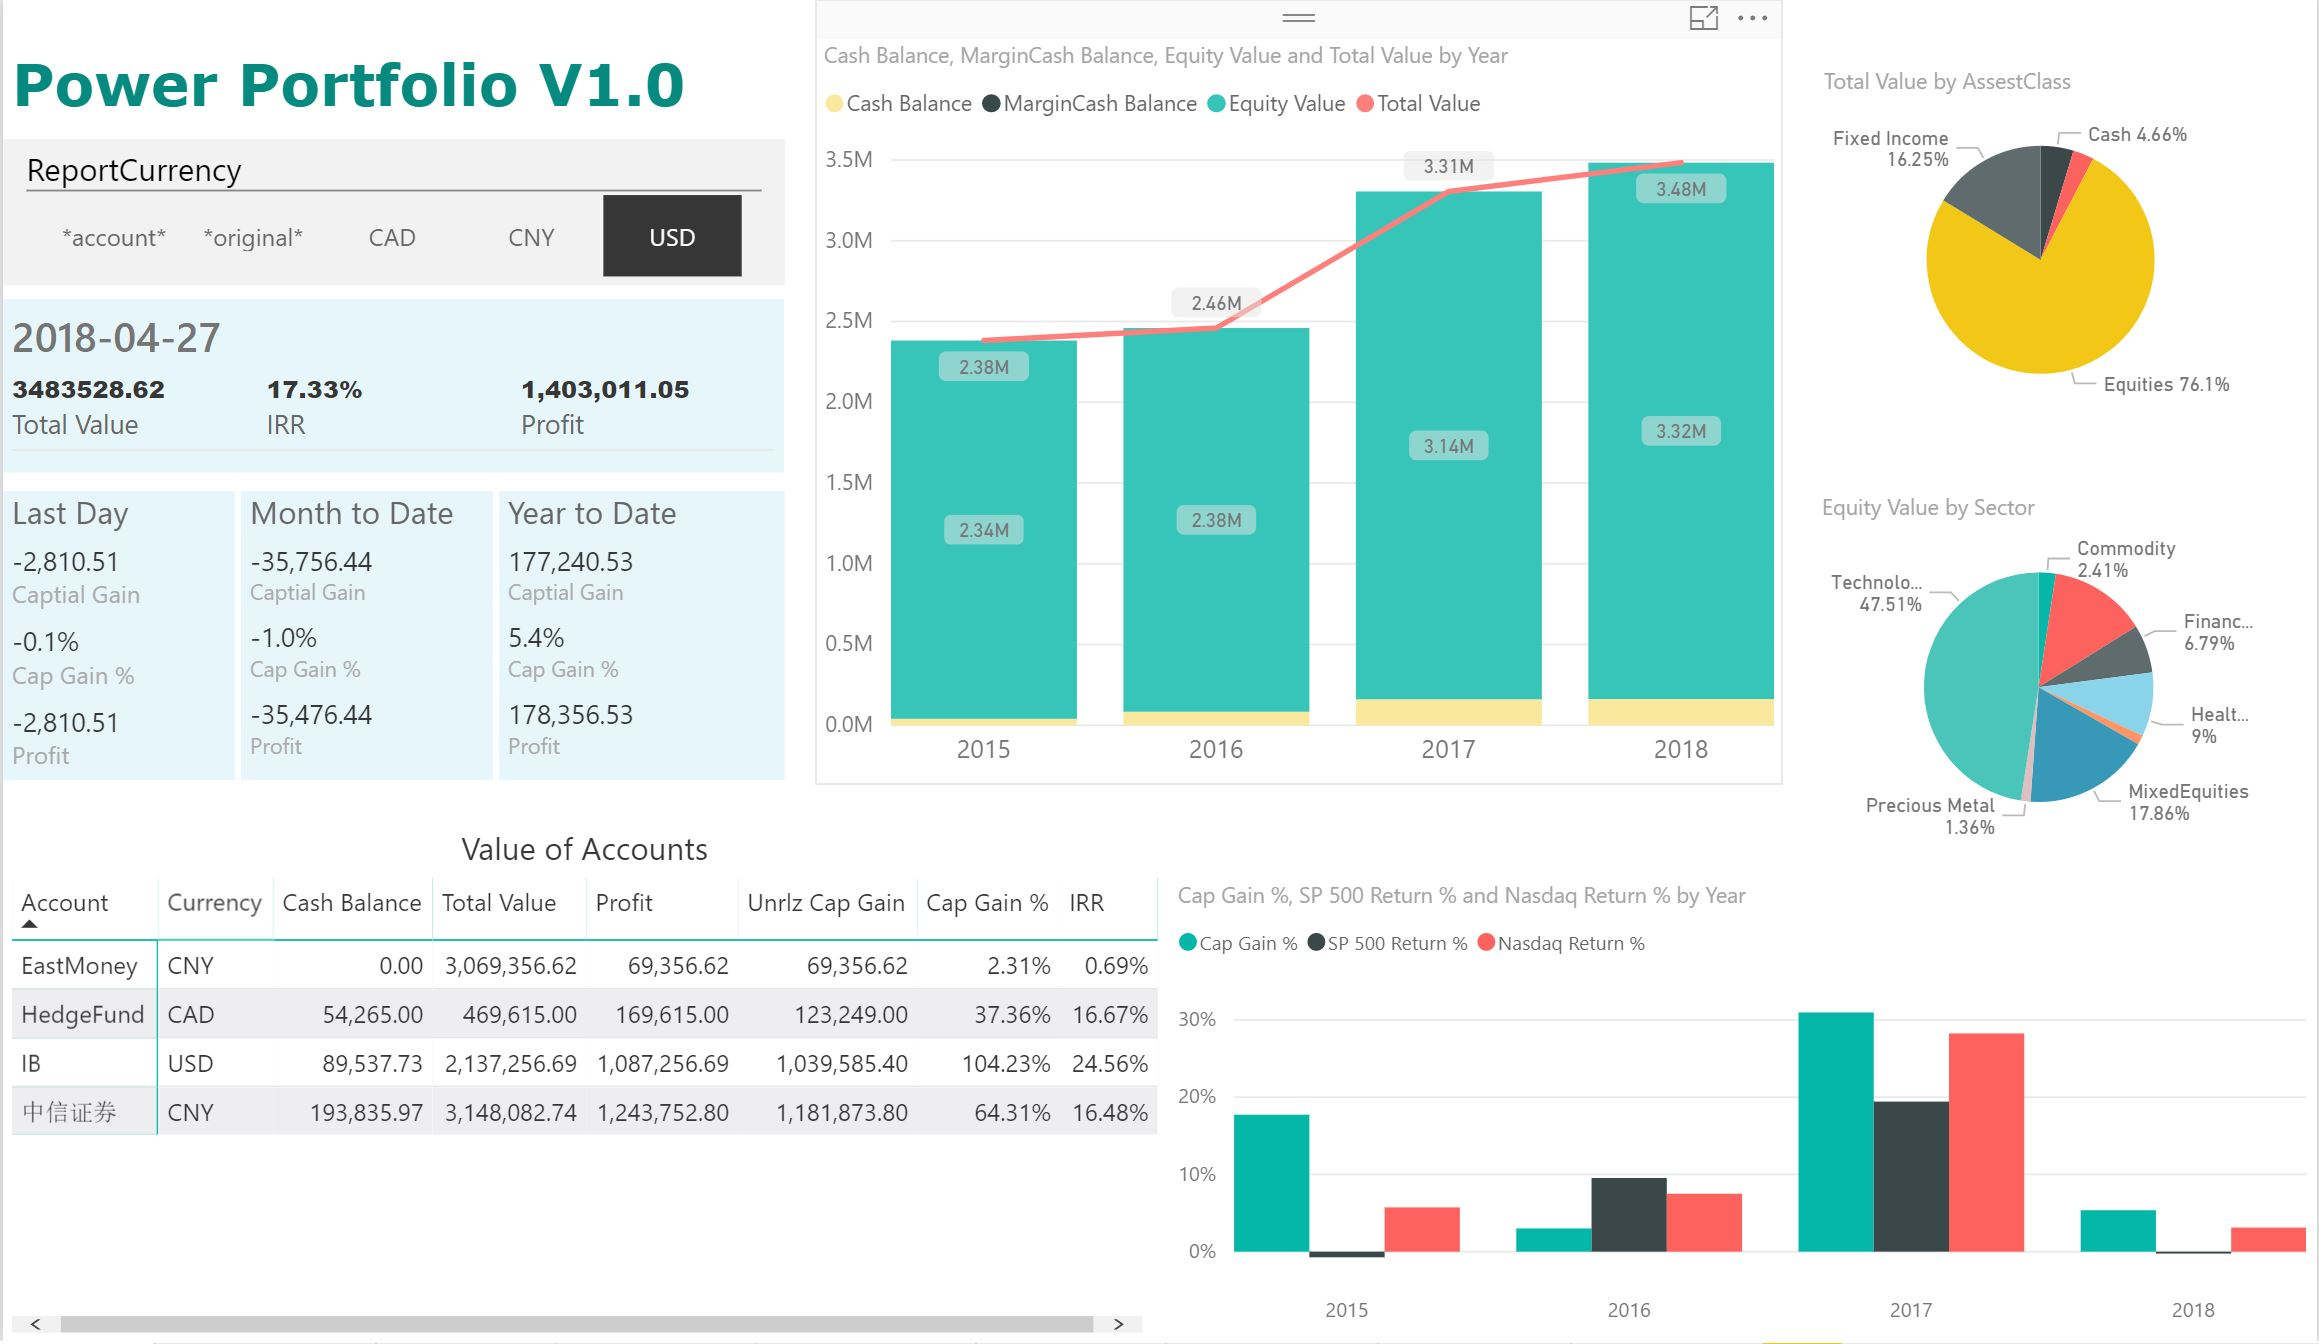

What the dashboard file says about the page in this screenshot:
{"tool":"powerbi","page":{"name":"Overview","canvas":[1280,720],"ordinal":0},"visuals":[{"type":"textbox","box":[0,0,434,48.7],"z":1},{"type":"multiRowCard","fields":{"Values":["Dates.Current Date","Report.Total Value","Report.IRR","Report.Profit"]},"box":[0,144,432,96],"z":2},{"type":"pivotTable","fields":{"Rows":["Accounts.AccountName"],"Values":["Min(Accounts.Currency)","Report.Cash Balance on BaseCurrency","Report.Total Value on BaseCurrency","Report.Profit on BaseCurrency","Report.Unrlz Cap Gain on BaseCurrency","Report.Cap Gain % on BaseCurrency","Report.IRR on BaseCurrency"]},"box":[0,435.7,643.4,284.6],"z":4},{"type":"slicer","fields":{"Values":["ReportCurrency.ReportCurrency"]},"box":[0,55.4,432.7,81.1],"z":6},{"type":"multiRowCard","fields":{"Values":["Report.Captial Gain","Report.Cap Gain %","Report.Profit"]},"box":[0,250,128.5,160],"z":6},{"type":"lineStackedColumnComboChart","fields":{"Category":["Dates.Year"],"Y":["Report.Cash Balance","Report.MarginCash Balance","Report.Equity Value"],"Y2":["Report.Total Value"]},"box":[449.1,0,535.5,412.7],"z":7},{"type":"multiRowCard","fields":{"Values":["Report.Captial Gain","Report.Cap Gain %","Report.Profit"]},"box":[131.2,250,139.3,160],"z":7},{"type":"multiRowCard","fields":{"Values":["Report.Captial Gain","Report.Cap Gain %","Report.Profit"]},"box":[274.5,250.1,158.2,160],"z":8},{"type":"pieChart","fields":{"Y":["Report.Total Value"],"Category":["AssestClasses.AssestClass"]},"box":[1002.1,14.8,249.5,199.6],"z":9},{"type":"pieChart","fields":{"Category":["Sectors.Sector"],"Y":["Report.Equity Value"]},"box":[1000.8,249.5,249.5,201],"z":10},{"type":"clusteredColumnChart","fields":{"Category":["Dates.Year"],"Y":["Report.Cap Gain %","Report.Benchmark 1 Return %","Report.Benchmark 3 Return %"]},"box":[644.7,464,633.9,256.3],"z":11}]}

Visuals, with their boxes in screenshot pixels (x1, y1, x2, y2), scaled from the page's 1280x720 canvas onto the 2319x1344 screenshot:
textbox: bbox(0, 0, 786, 91)
multiRowCard - Dates.Current Date x Report.Total Value: bbox(0, 269, 783, 448)
pivotTable - Accounts.AccountName x Min(Accounts.Currency): bbox(0, 813, 1166, 1343)
slicer - ReportCurrency.ReportCurrency: bbox(0, 103, 784, 255)
multiRowCard - Report.Captial Gain x Report.Cap Gain %: bbox(0, 467, 233, 765)
lineStackedColumnComboChart - Dates.Year x Report.Cash Balance: bbox(814, 0, 1784, 770)
multiRowCard - Report.Captial Gain x Report.Cap Gain %: bbox(238, 467, 490, 765)
multiRowCard - Report.Captial Gain x Report.Cap Gain %: bbox(497, 467, 784, 766)
pieChart - Report.Total Value x AssestClasses.AssestClass: bbox(1816, 28, 2268, 400)
pieChart - Sectors.Sector x Report.Equity Value: bbox(1813, 466, 2265, 841)
clusteredColumnChart - Dates.Year x Report.Cap Gain %: bbox(1168, 866, 2316, 1343)
